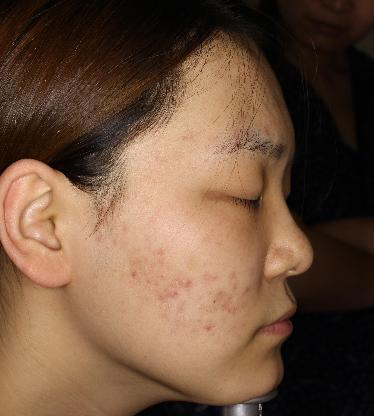acne scar: (128, 267, 143, 282), (181, 277, 196, 292), (241, 282, 253, 296), (203, 322, 217, 334), (171, 286, 184, 298)
